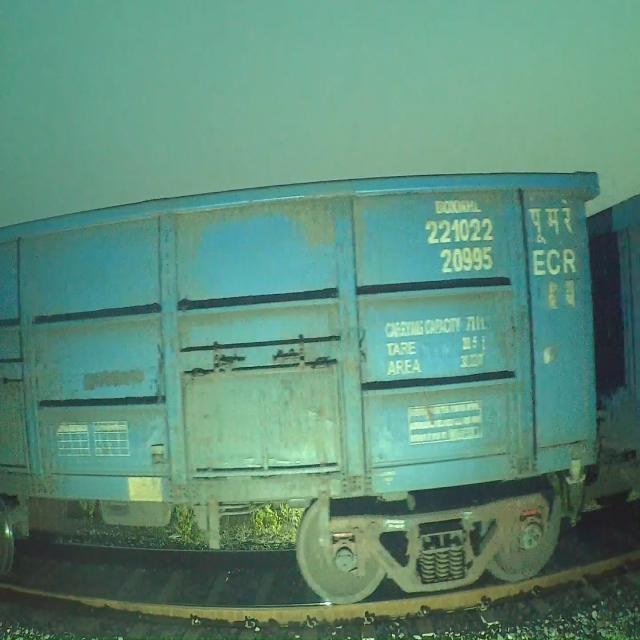WAgon-uic: (0, 160, 611, 609), (529, 185, 640, 556)
uic: (421, 209, 501, 281)
